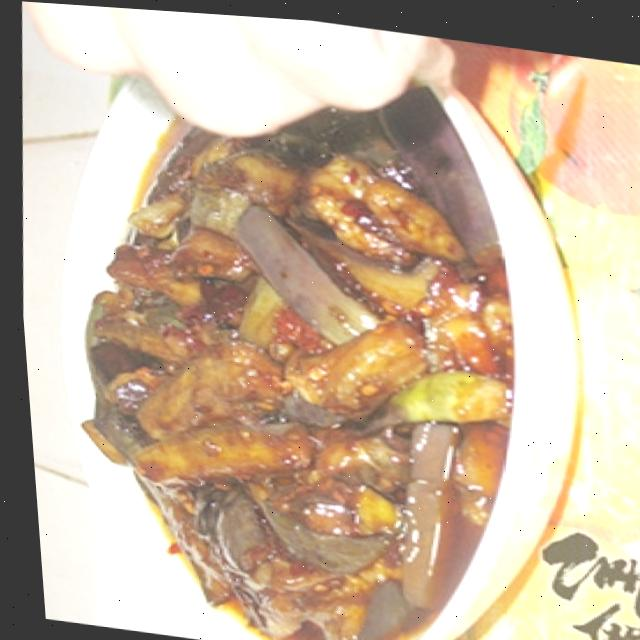鸡蛋料理: (11, 23, 600, 640)
